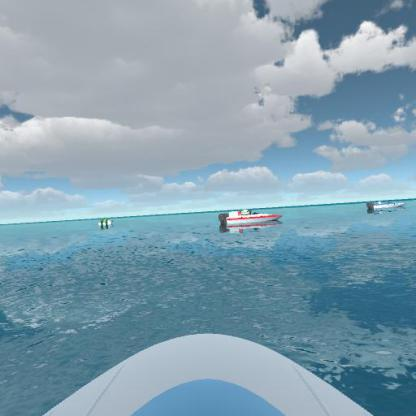usv0: (99, 214, 115, 231), (239, 204, 253, 215)
usv1: (367, 198, 409, 214)
usv3: (215, 210, 283, 234)
